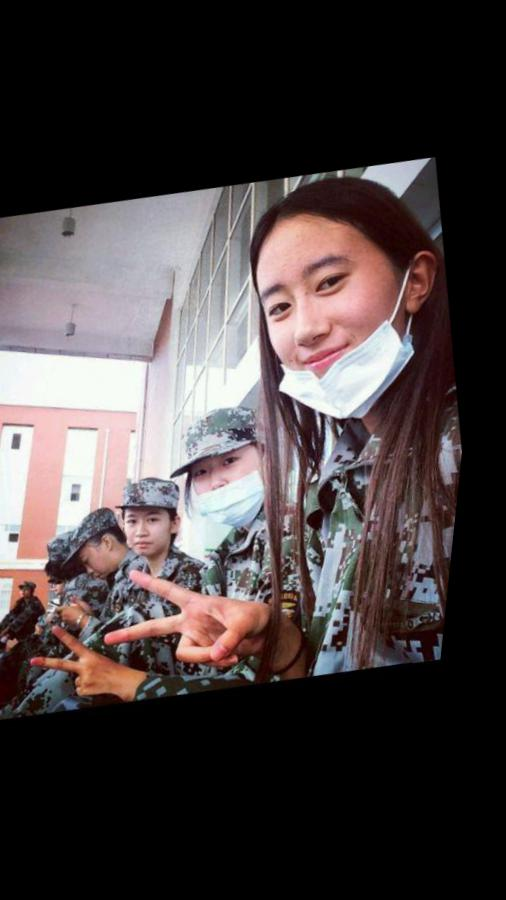NONE: (132, 505, 190, 561), (88, 531, 135, 582)
WRONG: (245, 232, 424, 416), (194, 439, 285, 534)
